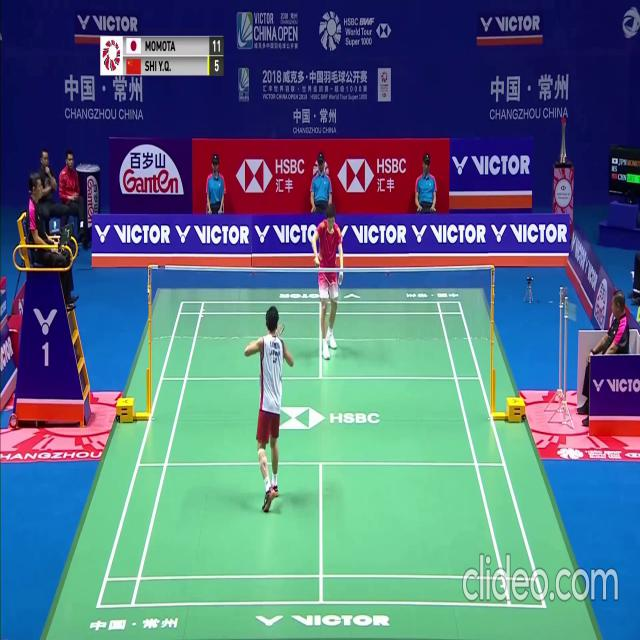Shuttlecock: (337, 280, 341, 288)
